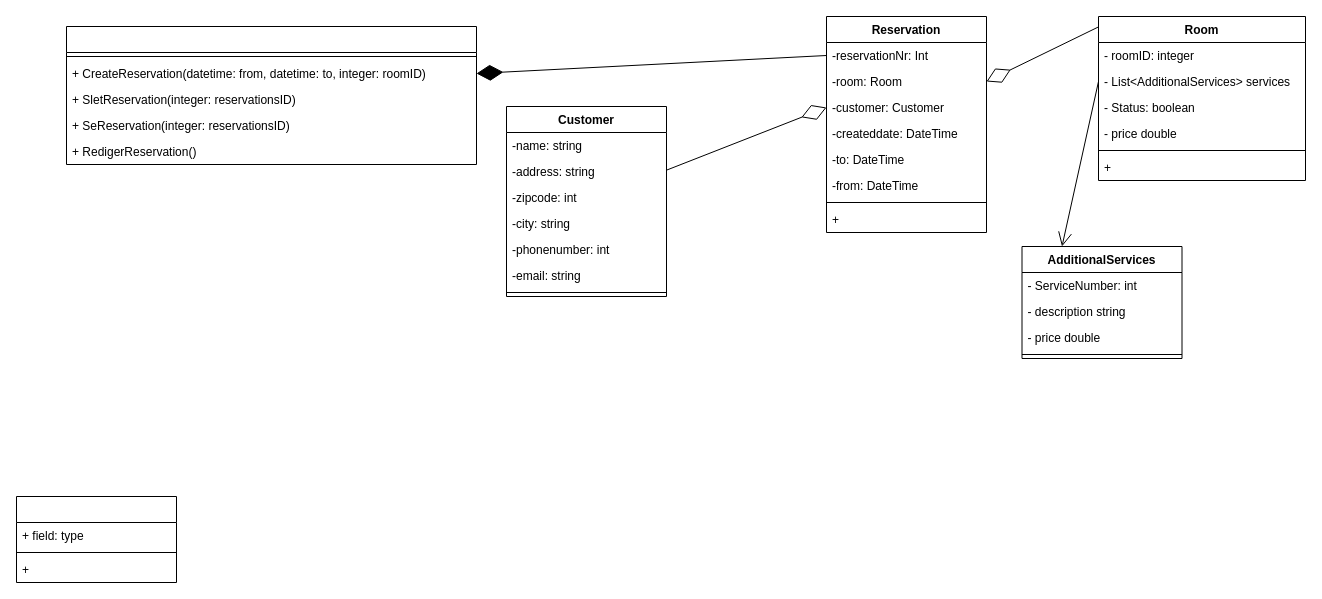
Image size: 1322x599. Some labels were removed from this diagram. Each missing label, with the box of its shape:
Receptionist: (16, 496, 176, 582)
ReservationManager: (66, 26, 476, 164)
